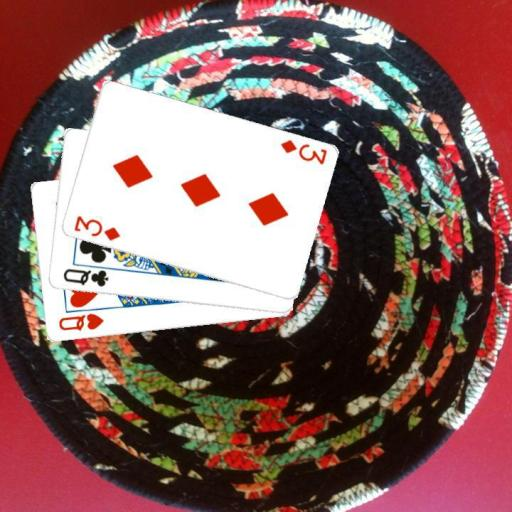3D: (71, 212, 122, 242), (277, 137, 328, 167)
QC: (60, 266, 110, 289)
QH: (55, 310, 105, 333)
